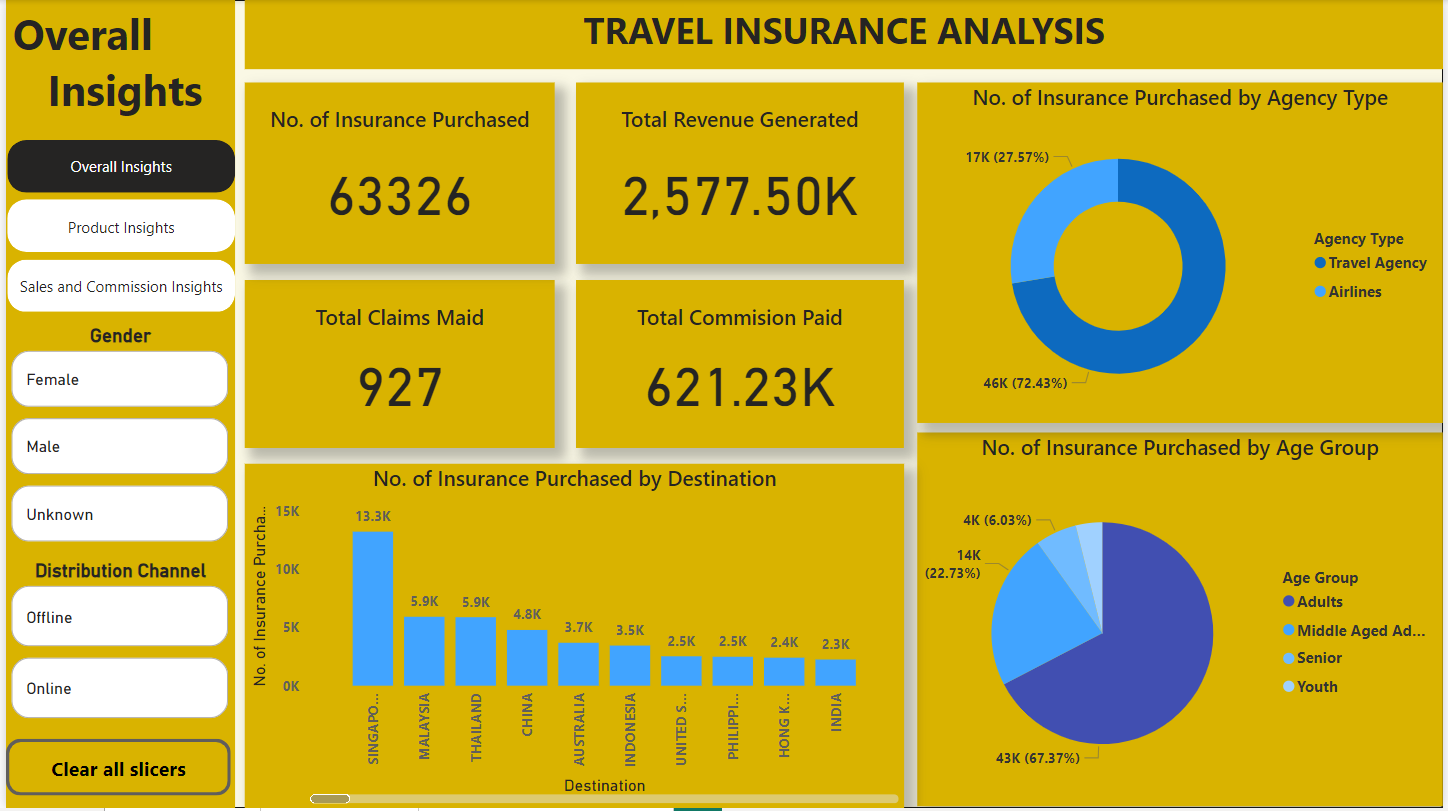

The dashboard page shown, as its layout file describes it:
{"tool":"powerbi","page":{"name":"Overall Insights","canvas":[1280,720],"ordinal":0},"visuals":[{"type":"textbox","box":[0,0,203.9,720.2],"z":0},{"type":"card","title":"Total Revenue Generated","fields":{"Values":["travel insurance.Total Revenue Generated"]},"box":[507.9,73.6,292,161.7],"z":1000},{"type":"card","title":"Total Commision Paid","fields":{"Values":["travel insurance.Total Commision Paid"]},"box":[507.9,249.7,292,149.6],"z":2000},{"type":"card","title":"Total Claims Maid","fields":{"Values":["travel insurance.Total Claims Made"]},"box":[212.3,249.7,276.3,149.6],"z":3000},{"type":"card","title":"No. of Insurance Purchased","fields":{"Values":["travel insurance.No. of Insurance Purchased"]},"box":[212.3,73.6,276.3,161.7],"z":4000},{"type":"pieChart","fields":{"Category":["travel insurance.Age Group"],"Y":["travel insurance.No. of Insurance Purchased"]},"box":[811.9,384.9,468.1,333],"z":5000},{"type":"clusteredColumnChart","fields":{"Category":["travel insurance.Destination"],"Y":["travel insurance.No. of Insurance Purchased"]},"box":[212.3,412.6,587.5,307.6],"z":6000},{"type":"advancedSlicerVisual","fields":{"Values":["travel insurance.Gender"]},"box":[0,288.3,203.9,200.3],"z":7000},{"type":"advancedSlicerVisual","fields":{"Values":["travel insurance.Distribution Channel"]},"box":[0,497.1,203.9,148.4],"z":8000},{"type":"donutChart","fields":{"Category":["travel insurance.Agency Type"],"Y":["travel insurance.No. of Insurance Purchased"]},"box":[811.9,73.6,468.1,302.8],"z":9000},{"type":"textbox","box":[1.2,0,203.9,153.2],"z":10000},{"type":"textbox","box":[212.3,0,1067.7,61.5],"z":11000},{"type":"actionButton","box":[0,657.5,200.3,50.7],"z":12000},{"type":"pageNavigator","box":[1.2,124.3,203.9,154.4],"z":13000}]}

Visuals, with their boxes in screenshot pixels (x1, y1, x2, y2), scaled from the page's 1280x720 canvas onto the 1448x811 screenshot:
textbox: (0,0,231,810)
"Total Revenue Generated" card: (575,83,905,265)
"Total Commision Paid" card: (575,281,905,450)
"Total Claims Maid" card: (240,281,553,450)
"No. of Insurance Purchased" card: (240,83,553,265)
pieChart - travel insurance.Age Group x travel insurance.No. of Insurance Purchased: (918,434,1447,809)
clusteredColumnChart - travel insurance.Destination x travel insurance.No. of Insurance Purchased: (240,465,905,810)
advancedSlicerVisual - travel insurance.Gender: (0,325,231,550)
advancedSlicerVisual - travel insurance.Distribution Channel: (0,560,231,727)
donutChart - travel insurance.Agency Type x travel insurance.No. of Insurance Purchased: (918,83,1447,424)
textbox: (1,0,232,173)
textbox: (240,0,1447,69)
actionButton: (0,741,227,798)
pageNavigator: (1,140,232,314)
